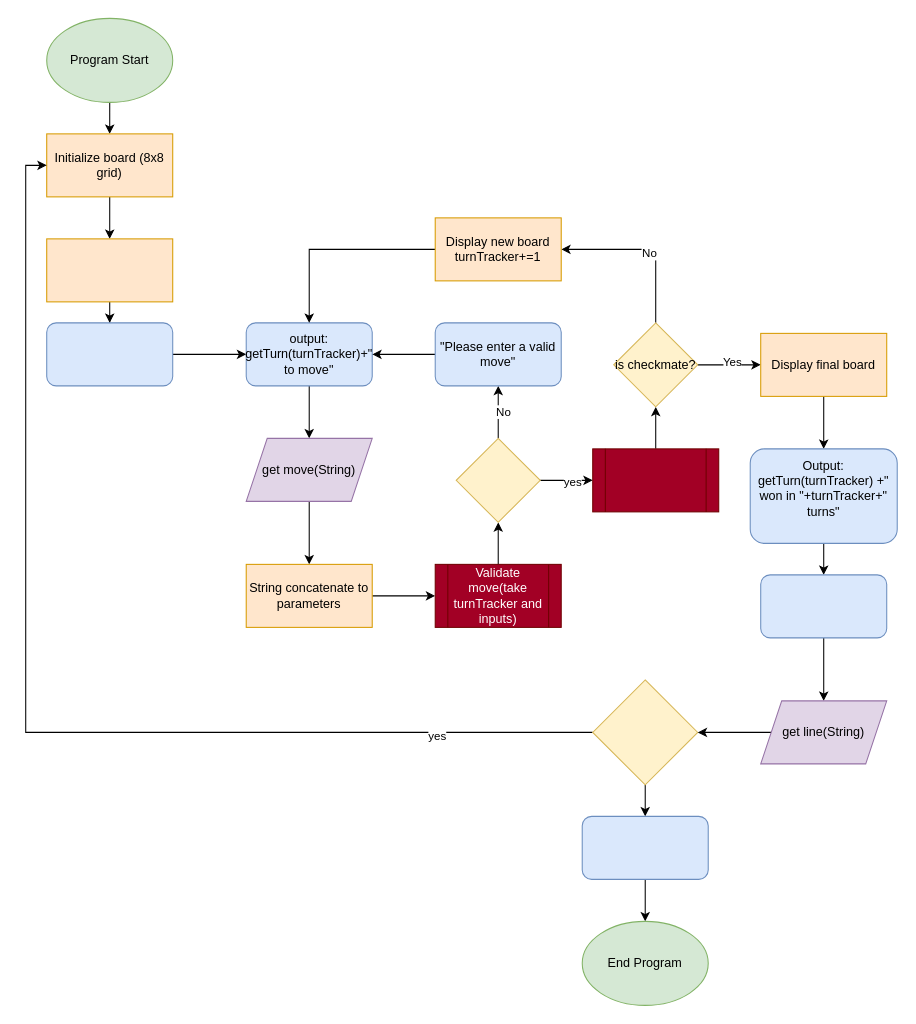
Some shapes in this 916 by 1024 pixel diagram are drawn without their labels. The shapes that lost their labels are listed below. From the top down, each one's centre as x and y in pixels, then its label:
pixel 109 270: Initialize pieces set turnTracker = 0
pixel 109 354: output: "Welcome to our chess engine, please enter moves in the form a2->a3"
pixel 497 479: Move Valid?
pixel 655 480: checkmate(turnTracker)
pixel 823 606: Would you like to play again?
pixel 645 732: if startsWith 'y'
pixel 644 847: Thanks for playing!
